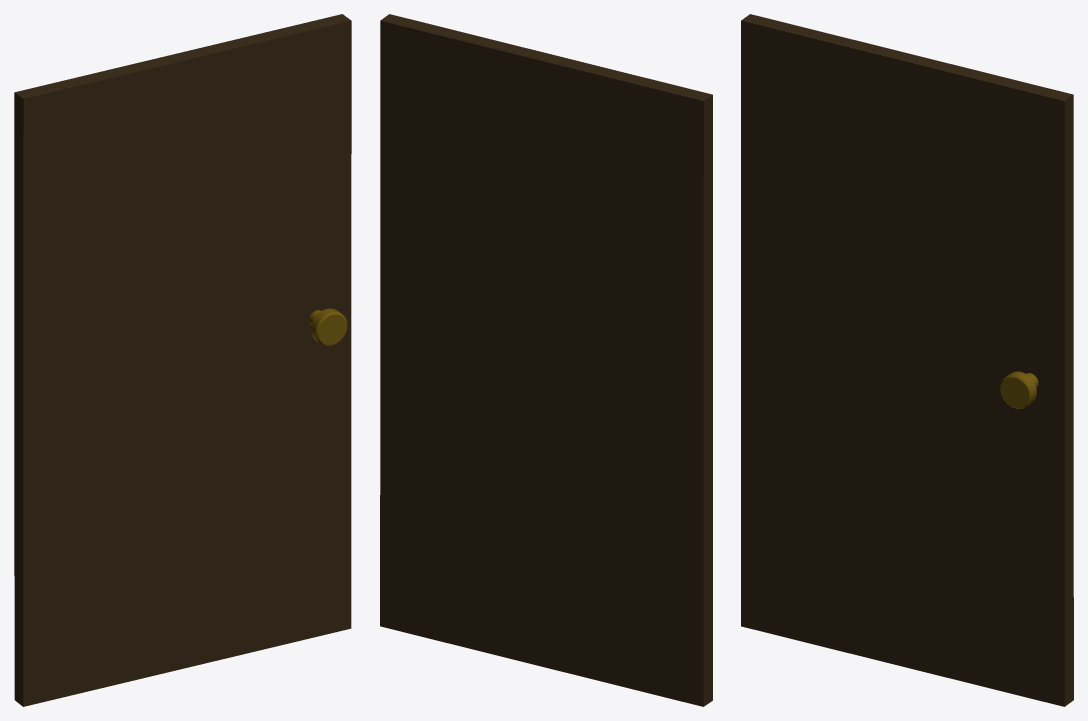
File: Tuer.fbx
3 renders of one model, left to right at view 1: azimuth 30°, elevation 25°; view 2: azimuth 150°, elevation 25°; view 3: azimuth 330°, elevation 25°, orthographic.
Parts seen in each view (by area): view 1: Tuer_oben; view 2: Tuer_oben; view 3: Tuer_oben.
Part boxes in pixels (bbox=[...]): Tuer_oben: bbox=[14, 14, 351, 706]; Tuer_oben: bbox=[380, 14, 712, 706]; Tuer_oben: bbox=[741, 14, 1073, 706].
Size of the model in its own units: 83.97 by 149 by 11.66.
